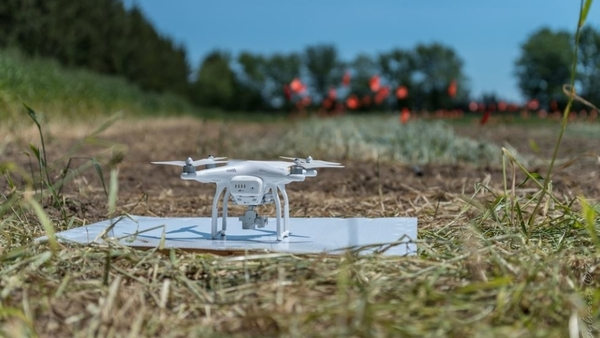drone: (148, 154, 346, 243)
